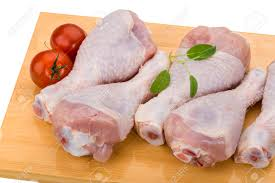Chicken: (178, 45, 233, 162)
